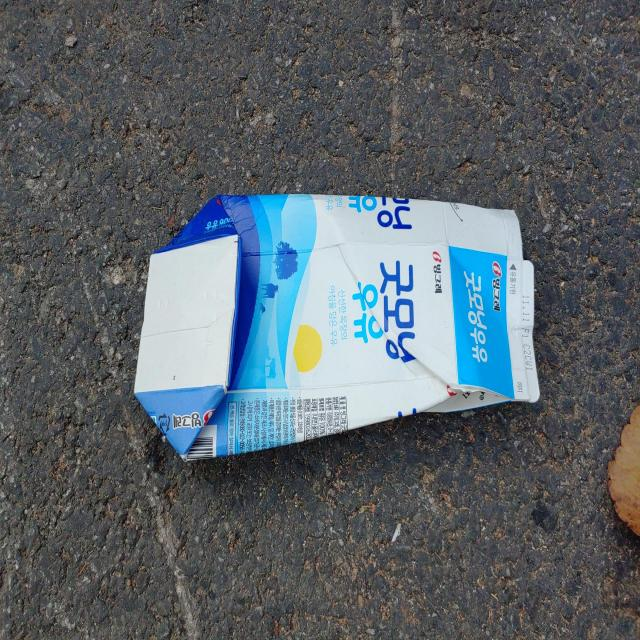paperpack: (135, 194, 540, 459)
